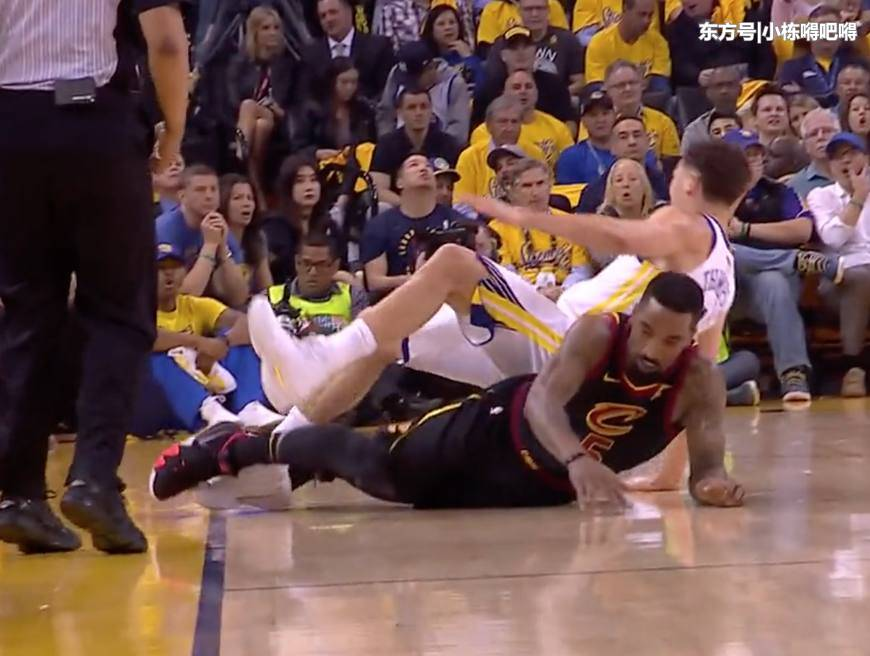10+: (1, 1, 870, 546)
down: (134, 271, 748, 518), (236, 143, 750, 414)
